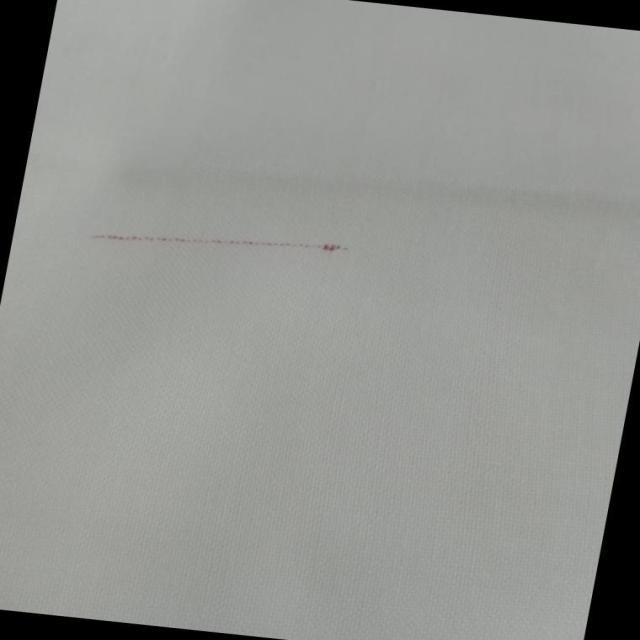contamination: (75, 207, 358, 276)
